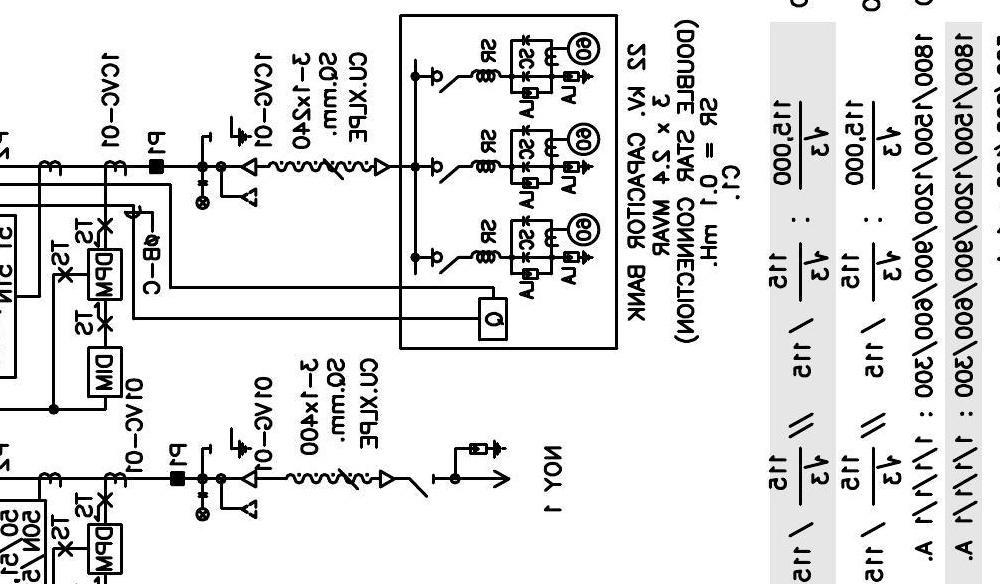22_cap_bank: (398, 13, 619, 351)
22_ds_la_out: (409, 439, 511, 499)
22_gs: (208, 114, 253, 148), (208, 426, 253, 460)
22_ll: (194, 179, 211, 211), (194, 491, 211, 523)
DIM: (86, 345, 124, 399)
DPM: (86, 247, 124, 302), (86, 522, 124, 576)
Q: (478, 296, 509, 342)
terminator_single: (373, 157, 391, 178), (378, 469, 396, 489)
terminator_w_future: (219, 156, 258, 208), (219, 468, 258, 520)
